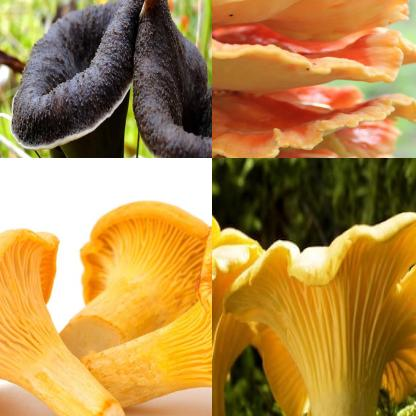CoW: (212, 0, 416, 158)
chanterelle: (224, 211, 416, 416), (76, 221, 212, 416), (0, 220, 132, 416), (60, 197, 212, 359), (8, 0, 151, 158), (133, 0, 212, 158), (212, 208, 269, 416)
